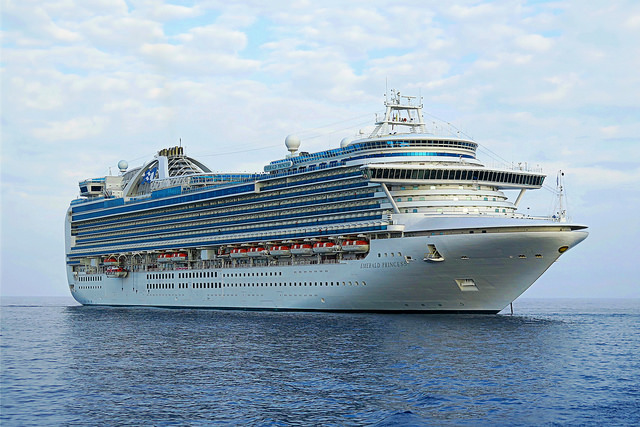cruise_ship: (60, 102, 588, 320)
